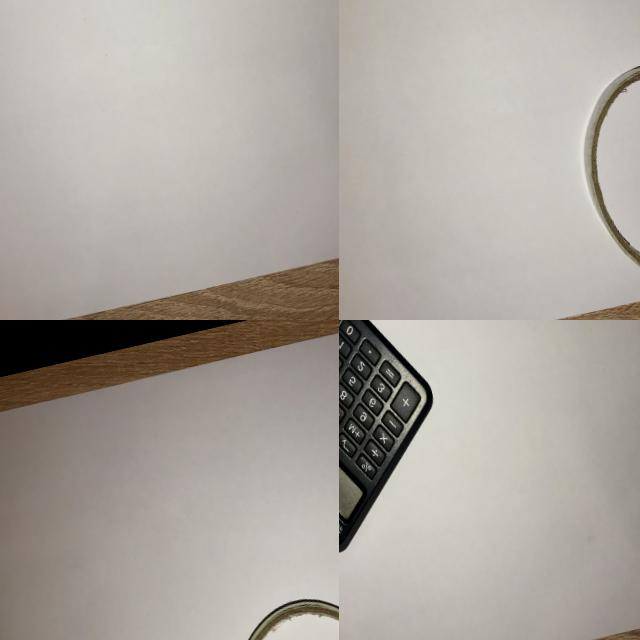calculator: (339, 320, 467, 574)
scotch: (555, 37, 640, 304)
